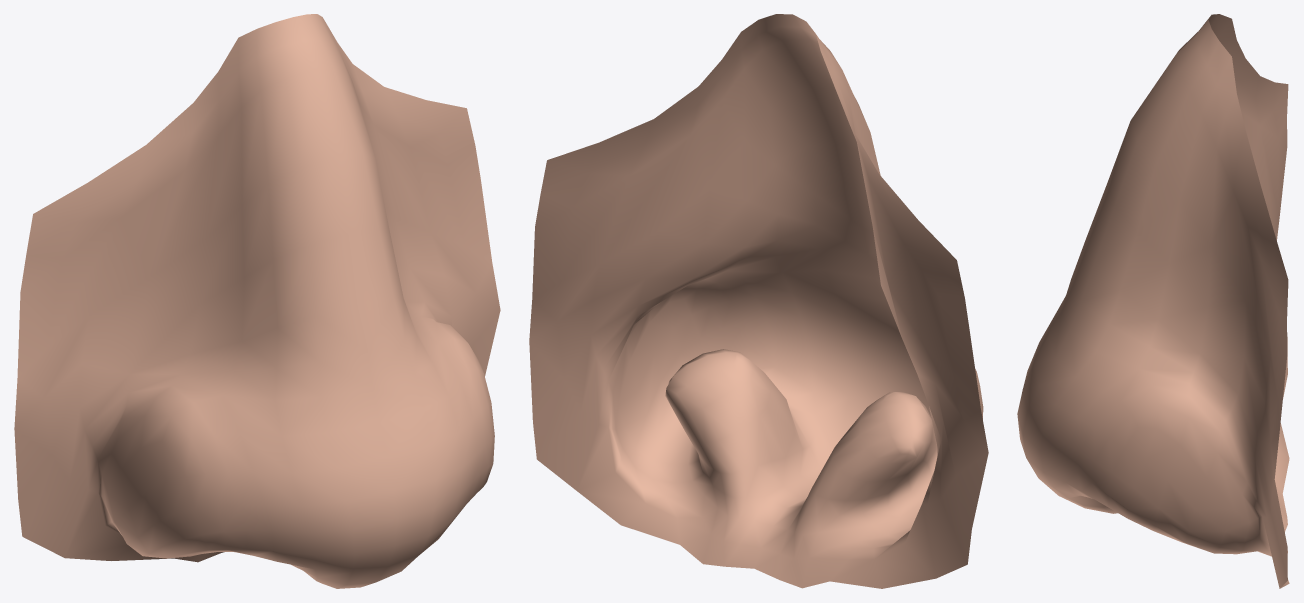
The model's file is Nose 05.glb.
3 renders of one model, left to right at view 1: azimuth 30°, elevation 25°; view 2: azimuth 150°, elevation 25°; view 3: azimuth 270°, elevation 25°, orthographic. The views are drawn at different scales.
Parts seen in each view (by area): view 1: nose05; view 2: nose05; view 3: nose05.
Part boxes in pixels (x1=…): nose05: x1=14, y1=14, x2=500, y2=588; nose05: x1=529, y1=14, x2=988, y2=588; nose05: x1=1017, y1=14, x2=1289, y2=588.
Bounding box in the file's own units: 0.000982 × 0.00109 × 0.000515.
